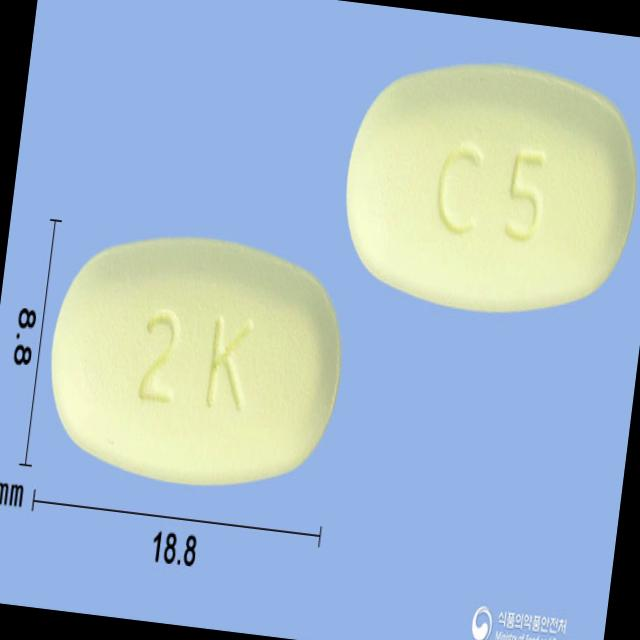Clithocin: (36, 218, 354, 505), (328, 44, 640, 329)
